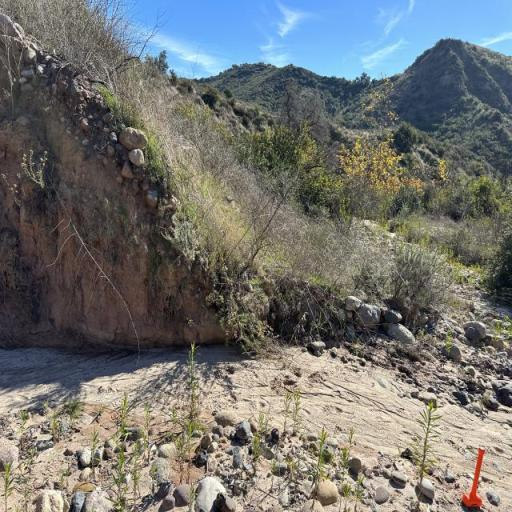mallet: (461, 446, 487, 508)
